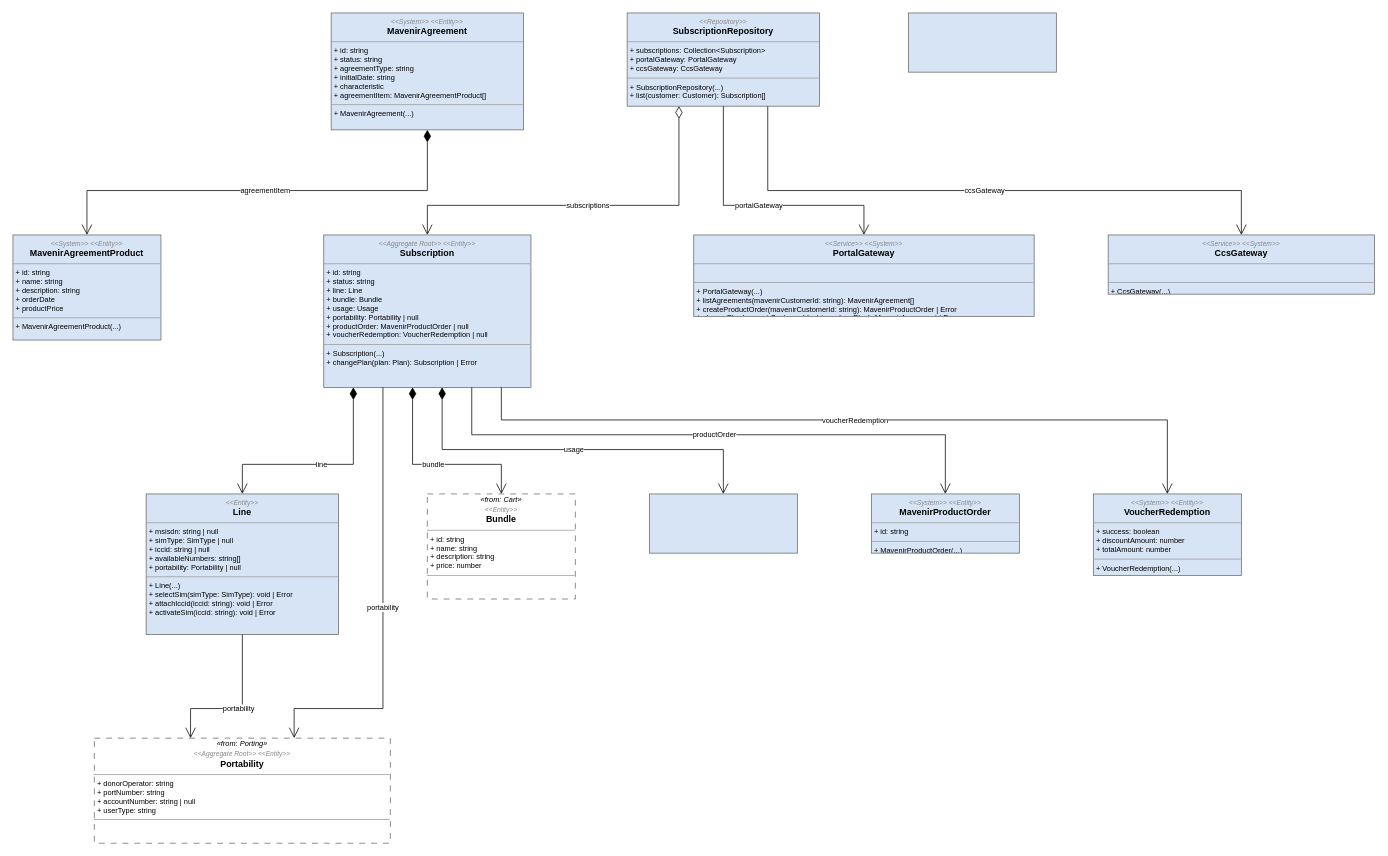
Some shapes in this 1388 by 856 pixel diagram are drawn without their labels. Here are the shapes that lost their labels. From the top down, the box of each, then its label:
(908, 12, 1056, 72): <<System>> <<Entity>> MsisdnDataUsage + MsisdnDataUsage(...)
(649, 493, 797, 553): <<Entity>> Usage + Usage(...)
